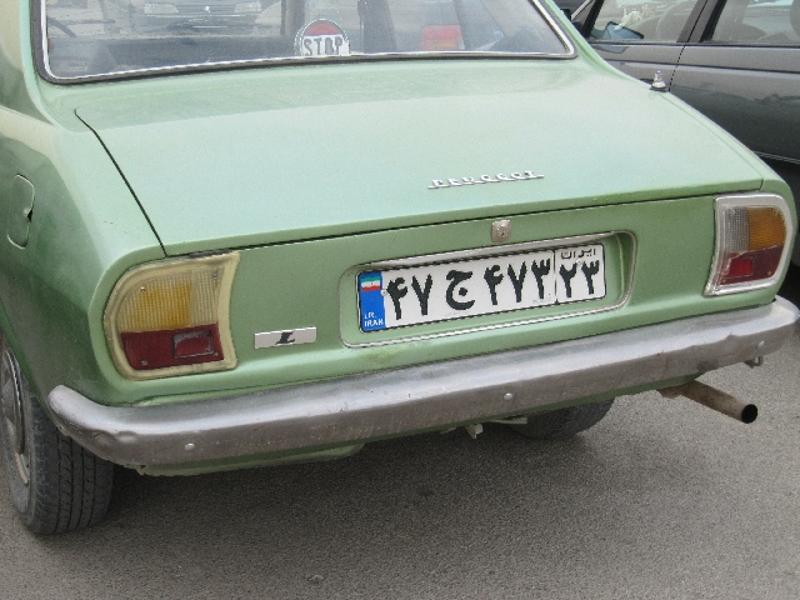Plate: (358, 237, 637, 337)
